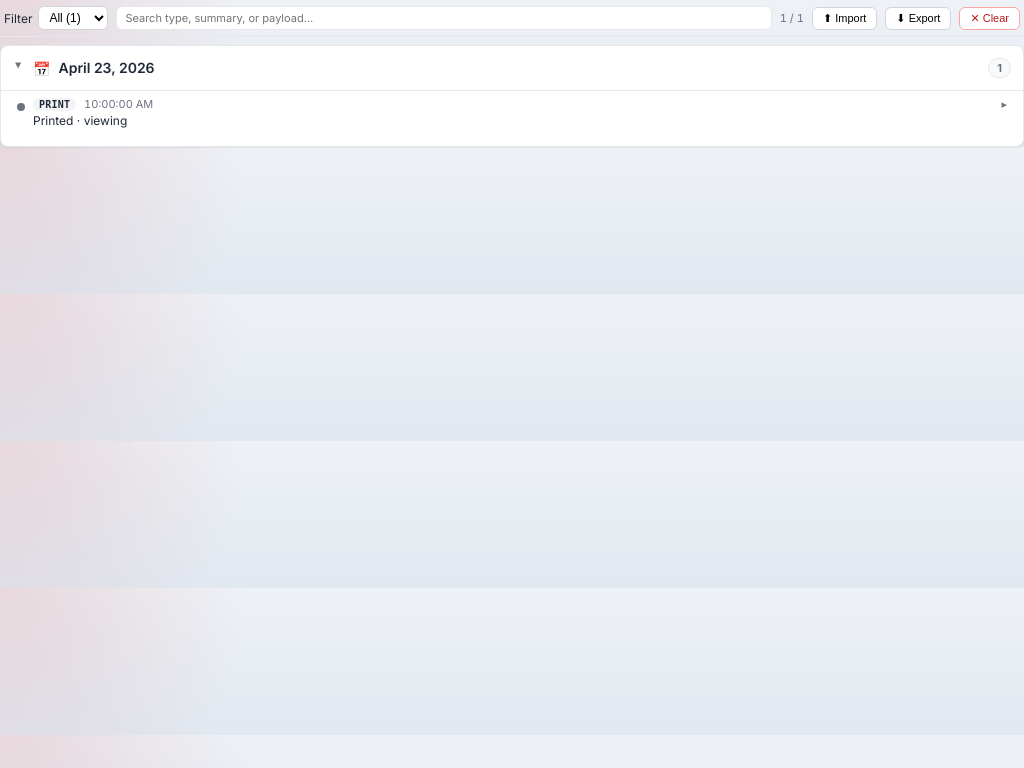
Test: <AuditLogPanel /> › shows "no matching entries" EmptyState when search has no results
Type "xyzabcnonexistent" into the search field named "search audit log" at [444, 18], box [116, 6, 772, 30]
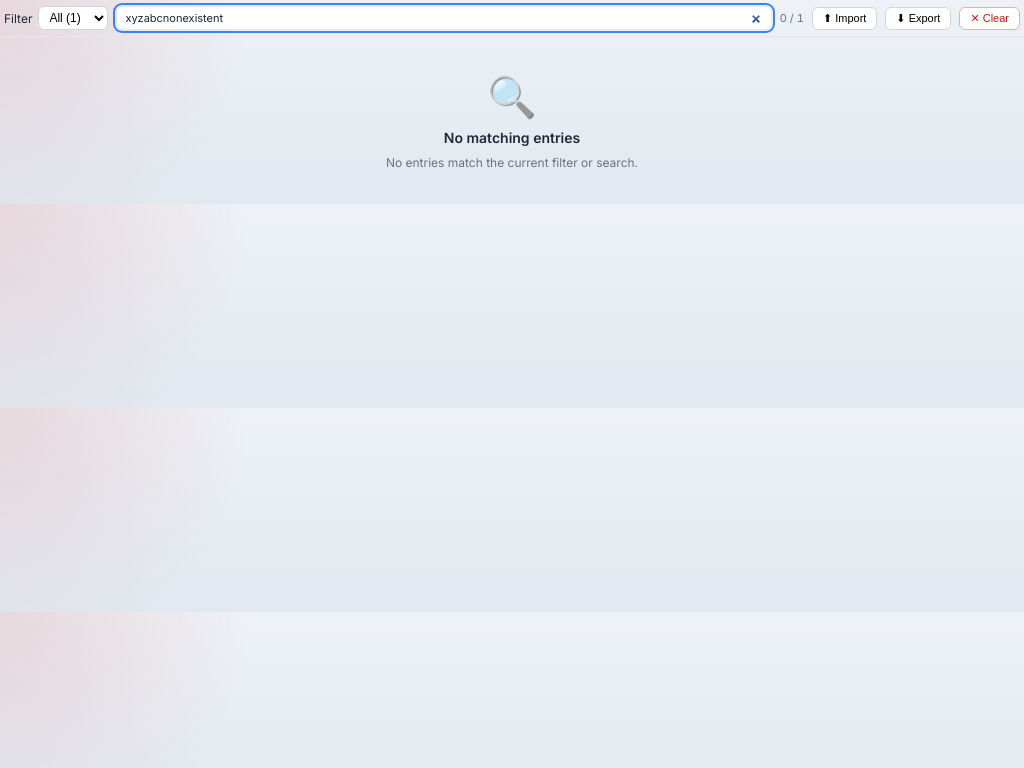
Check: the heading "No matching entries" is shown, box [444, 129, 580, 146]
